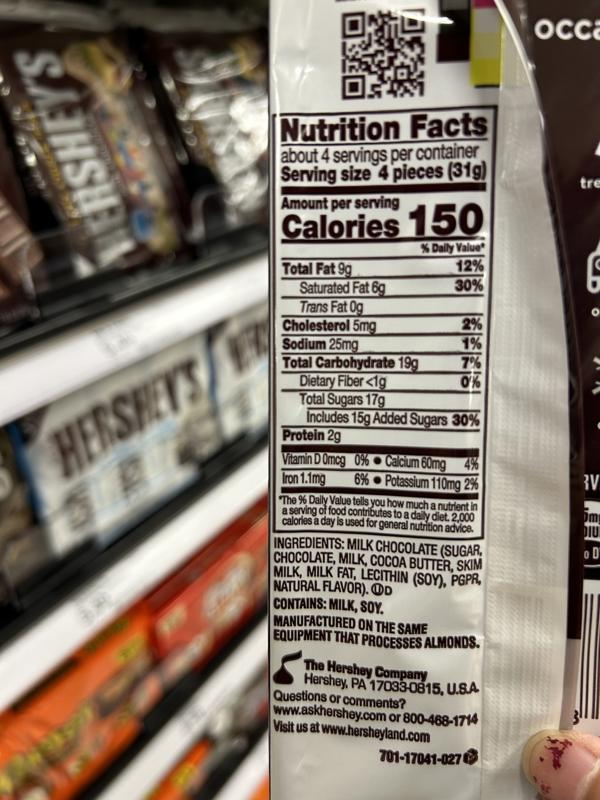ingredients: (272, 535, 484, 597)
